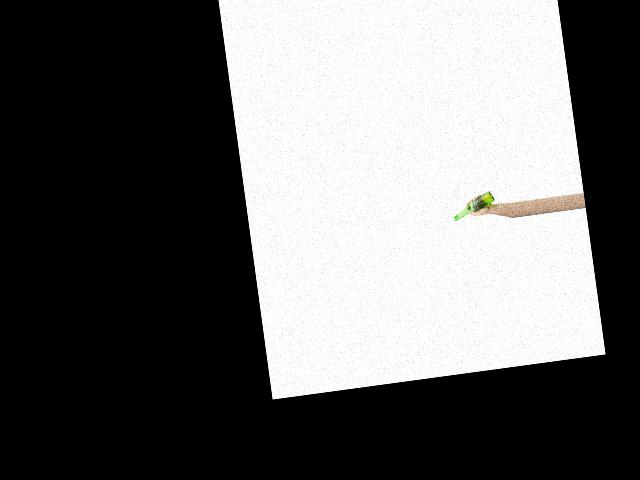beer: (450, 190, 496, 221)
